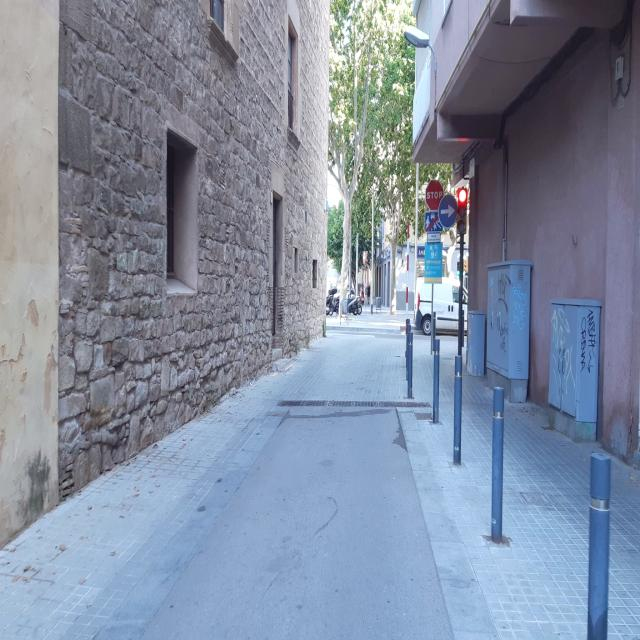car: (414, 278, 465, 338), (326, 282, 341, 316), (348, 286, 362, 315)
